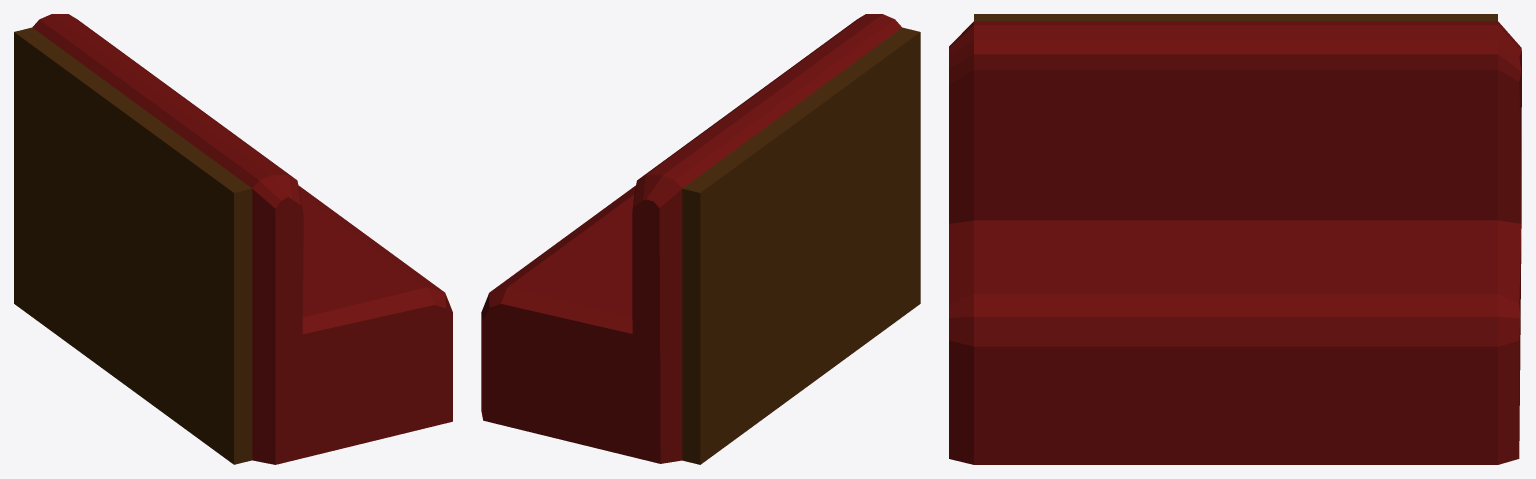
The model's file is BoothSeating.fbx.
3 renders of one model, left to right at view 1: azimuth 30°, elevation 25°; view 2: azimuth 150°, elevation 25°; view 3: azimuth 270°, elevation 25°, orthographic. The views are drawn at different scales.
Visible parts, largest first — view 1: Booth seating; view 2: Booth seating; view 3: Booth seating.
Part boxes in pixels (box(x1,y1,x2,y2)): Booth seating: box(14, 14, 452, 464); Booth seating: box(481, 14, 920, 464); Booth seating: box(949, 14, 1521, 464).
Bounding box in the file's own units: 459 × 562 × 873.
